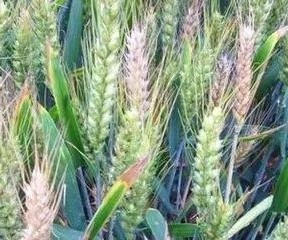Wheat scab: (232, 27, 260, 116)
